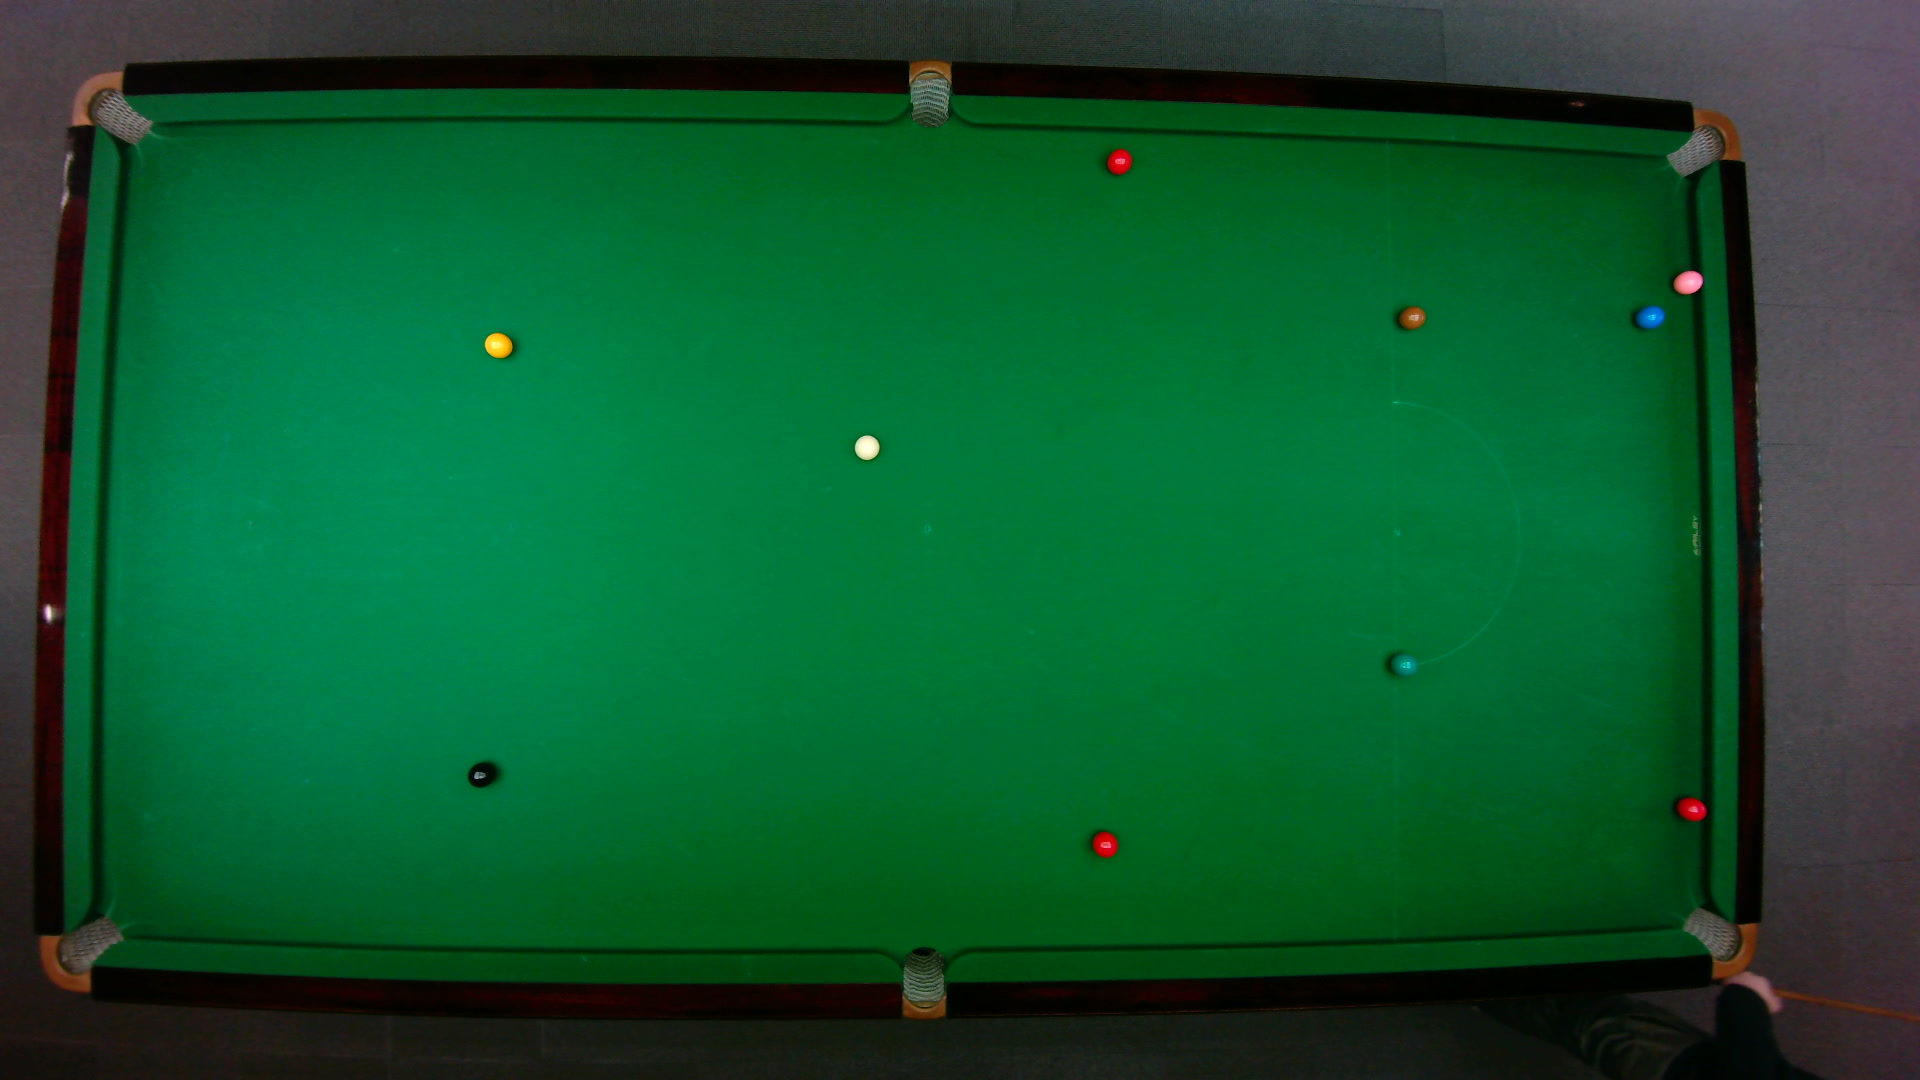bag: (37, 913, 125, 992), (69, 69, 152, 145), (1679, 905, 1758, 978), (1663, 107, 1741, 177), (901, 944, 944, 1021), (909, 57, 949, 128)
black: (465, 760, 495, 789)
blue: (1634, 303, 1665, 328)
brown: (1396, 305, 1427, 328)
green: (1389, 649, 1418, 676)
pink: (1669, 266, 1704, 295)
red: (1089, 828, 1120, 858), (1673, 795, 1708, 822), (1104, 146, 1133, 175)
white: (851, 433, 880, 462)
yellow: (483, 328, 513, 359)
zone: (1390, 400, 1520, 669)
